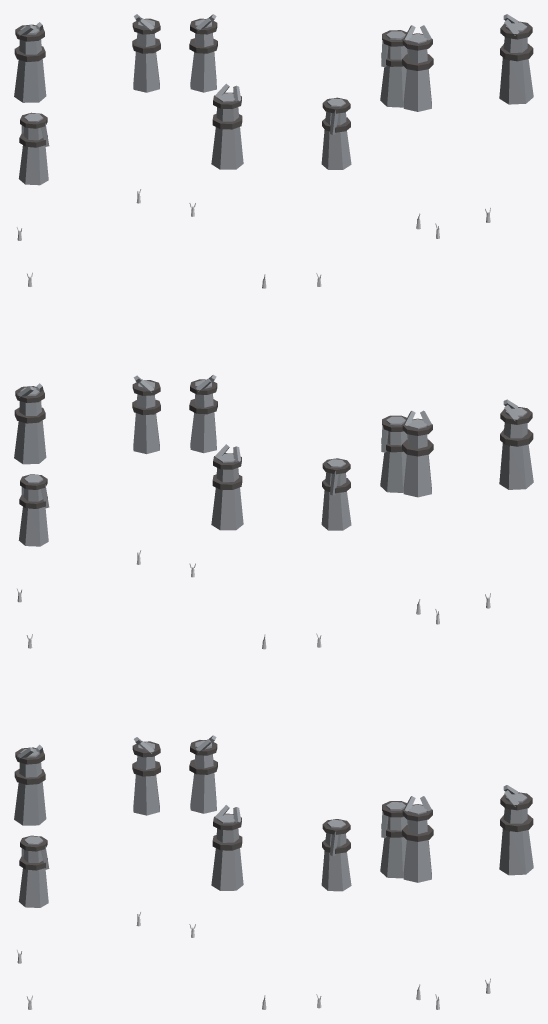
File: Circle9Folk0.obj
The picture shows the model from 3 angles, left to right: view 1: azimuth 30°, elevation 25°; view 2: azimuth 150°, elevation 25°; view 3: azimuth 270°, elevation 25°; orthographic projection. The views are drawn at different scales.
Visible parts, largest first — view 1: Circle9Folk0; view 2: Circle9Folk0; view 3: Circle9Folk0.
Boxes of the visible parts, box(x1,y1,x2,y2) form: Circle9Folk0: box(14, 14, 160, 1009); Circle9Folk0: box(189, 14, 351, 1009); Circle9Folk0: box(380, 14, 533, 1009).
Bounding box in the file's own units: 32.18 × 201 × 27.1.
Materials: 1 (1 with a texture image).
